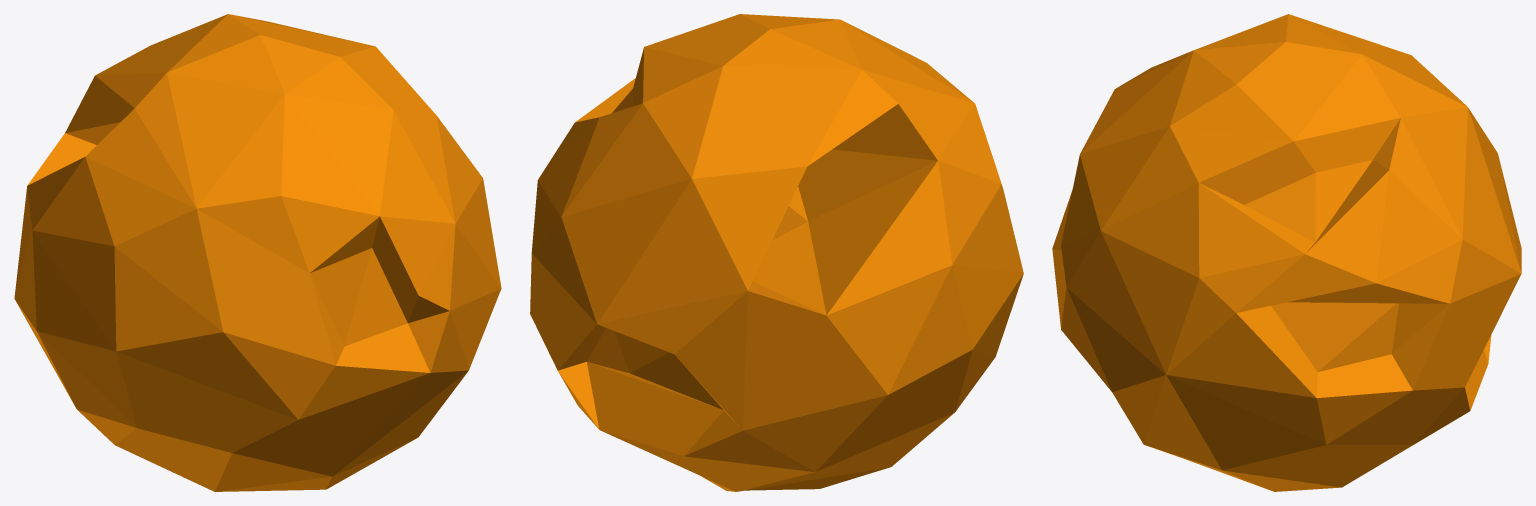
File: Planet12.fbx
3 renders of one model, left to right at view 1: azimuth 30°, elevation 25°; view 2: azimuth 150°, elevation 25°; view 3: azimuth 270°, elevation 25°, orthographic. The views are drawn at different scales.
Visible parts, largest first — view 1: Planet12; view 2: Planet12; view 3: Planet12.
Boxes of the visible parts, x1,y1,x2,y2 form: Planet12: (14,14,501,491); Planet12: (530,14,1023,491); Planet12: (1052,14,1521,491).
Size of the model in its own units: 8.8 by 8.88 by 8.91.
